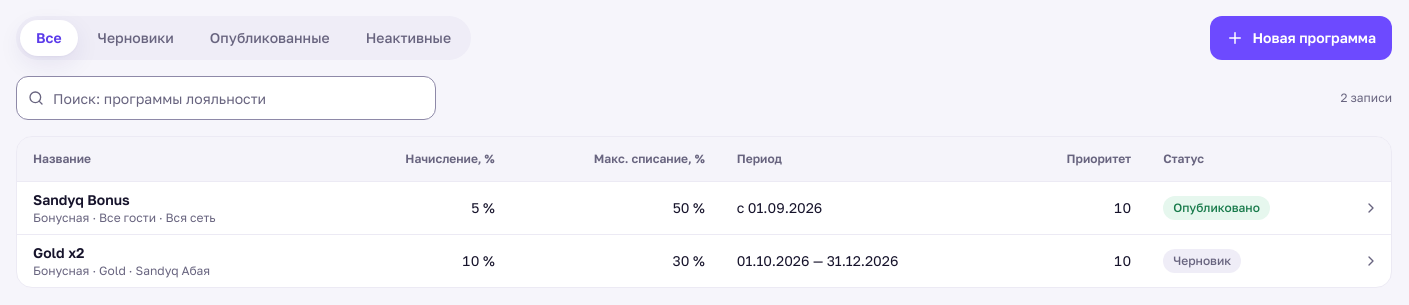
Test: «Программы лояльности» (W1-LOY-05) › publish tabs, percent columns and period instead of an amount
Expected: the column headings read "Название", "Начисление, %", "Макс. списание, %", "Период", "Приоритет", "Статус", in this order, [17, 137, 332, 181]; [332, 137, 511, 181]; [511, 137, 721, 181]; [721, 137, 1005, 181]; [1005, 137, 1147, 181]; [1147, 137, 1351, 181]
Expected: the text "Опубликовано" is shown, [1163, 196, 1270, 220]
What coordinates should you click on to do the following:
click the tab "Черновики"
I would click on:
 (136, 38)
Its box is [82, 20, 190, 56].
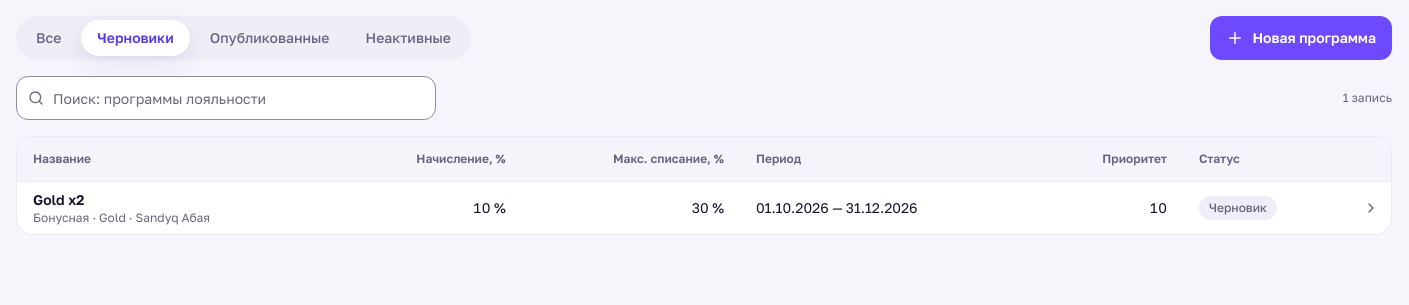
Now the text "Sandyq Bonus" is gone
